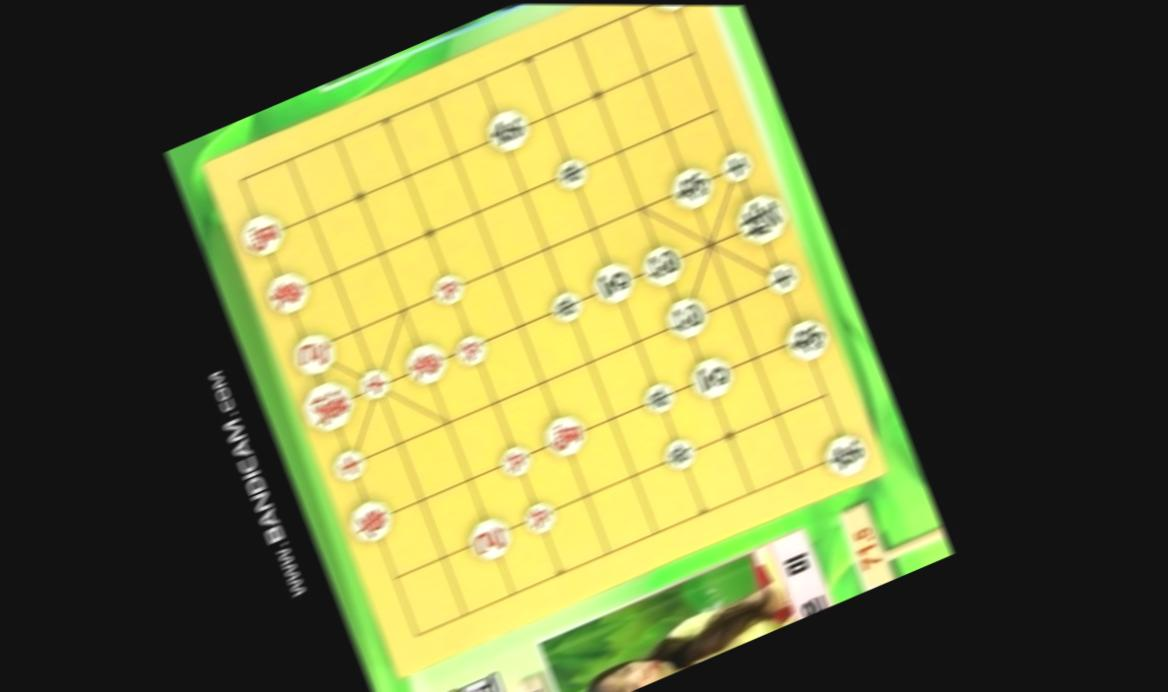cha_green: (479, 103, 537, 157), (817, 429, 873, 482)
cha_red: (342, 492, 399, 548), (641, 5, 698, 16)
jol_green: (636, 375, 683, 420), (550, 153, 593, 195), (658, 434, 701, 475), (545, 287, 588, 328)
jol_red: (449, 327, 491, 369), (427, 266, 469, 308), (494, 440, 535, 482), (518, 497, 560, 538)
ma_green: (684, 352, 741, 403), (586, 256, 640, 309)
ma_red: (536, 408, 591, 463), (234, 208, 290, 260)
po_green: (634, 241, 688, 293), (660, 293, 713, 343)
po_red: (284, 325, 341, 380), (462, 511, 517, 566)
sa_green: (761, 256, 806, 300), (715, 147, 757, 189)
sa_red: (352, 361, 396, 405), (327, 445, 371, 485)
sang_green: (665, 162, 720, 215), (779, 314, 834, 367)
sang_red: (257, 265, 315, 320), (397, 338, 454, 391)
wang_green: (726, 188, 794, 251)
wang_red: (295, 376, 361, 435)
